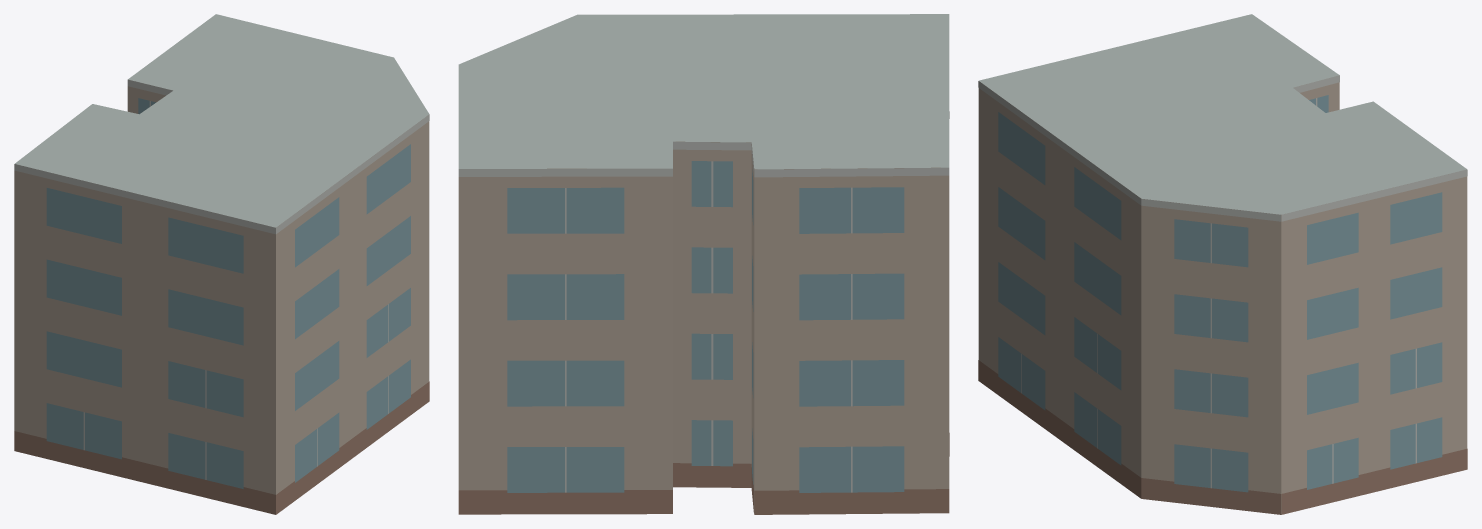
The model's file is survey-upis-32528224.glb.
3 views of the same model, side by side, from view 1: azimuth 30°, elevation 25°; view 2: azimuth 150°, elevation 25°; view 3: azimuth 270°, elevation 25° (orthographic). The views are drawn at different scales.
Parts seen in each view (by area): view 1: survey-upis-32528224.tmp; view 2: survey-upis-32528224.tmp; view 3: survey-upis-32528224.tmp.
Boxes of the visible parts, <box> form: survey-upis-32528224.tmp: <box>14,14,429,514</box>; survey-upis-32528224.tmp: <box>458,14,949,514</box>; survey-upis-32528224.tmp: <box>978,14,1467,514</box>.
Bounding box in the file's own units: 15.07 × 10.5 × 15.52.
